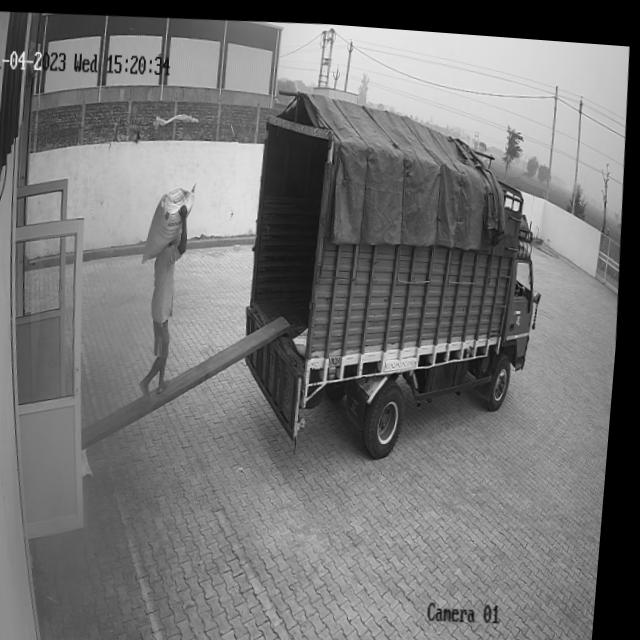sack: (142, 176, 201, 263)
